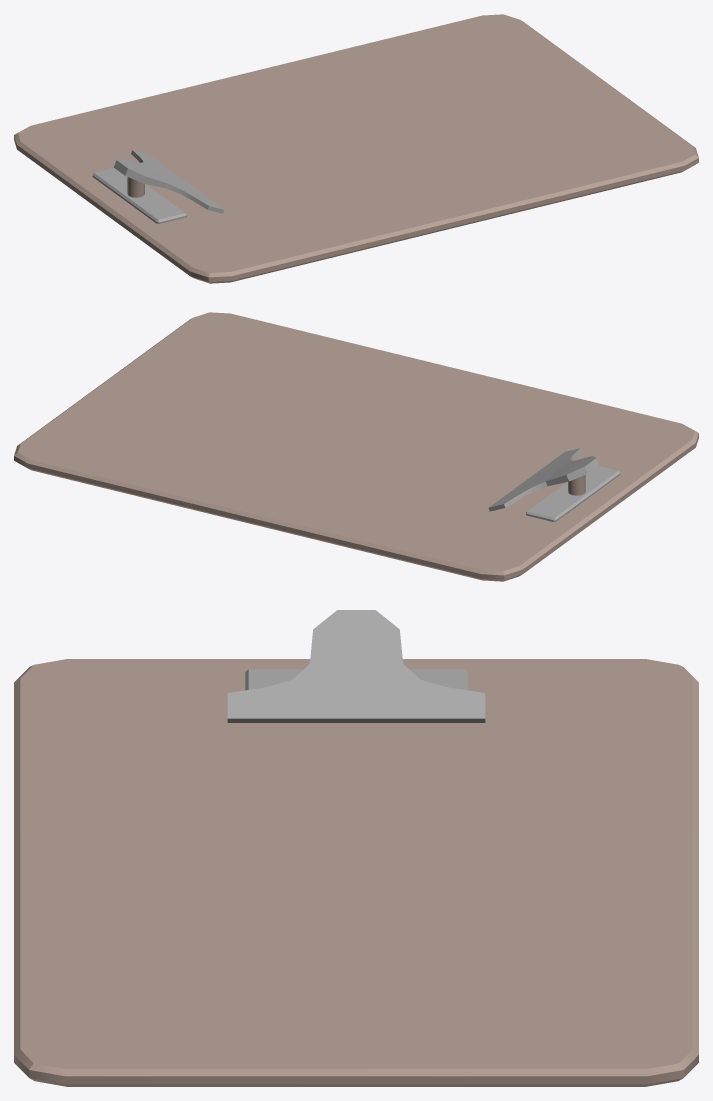
The model's file is SM_PaperHolder.fbx.
3 renders of one model, top to bottom at view 1: azimuth 30°, elevation 25°; view 2: azimuth 150°, elevation 25°; view 3: azimuth 270°, elevation 25°, orthographic. The views are drawn at different scales.
Parts seen in each view (by area): view 1: SM_PaperHolder; view 2: SM_PaperHolder; view 3: SM_PaperHolder.
Boxes of the visible parts, x1,y1,x2,y2 form: SM_PaperHolder: [14, 14, 698, 283]; SM_PaperHolder: [14, 312, 698, 581]; SM_PaperHolder: [14, 610, 698, 1086].
Size of the model in its own units: 33 by 2.96 by 23.
